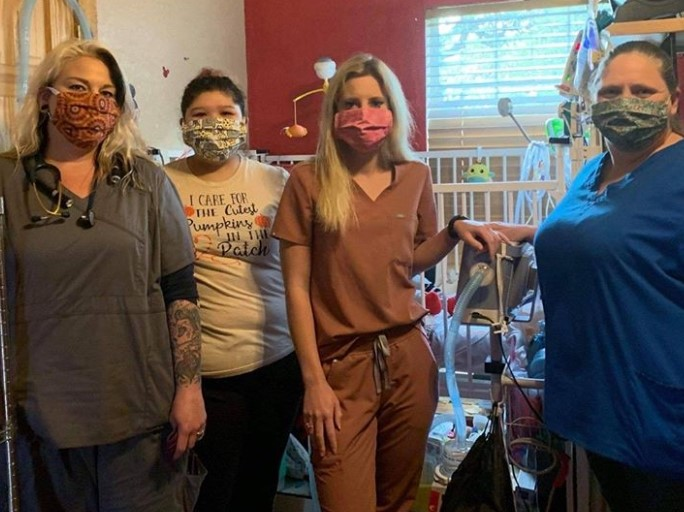face_with_mask: (589, 42, 681, 146), (34, 47, 124, 150), (180, 70, 248, 168), (330, 56, 395, 155)
